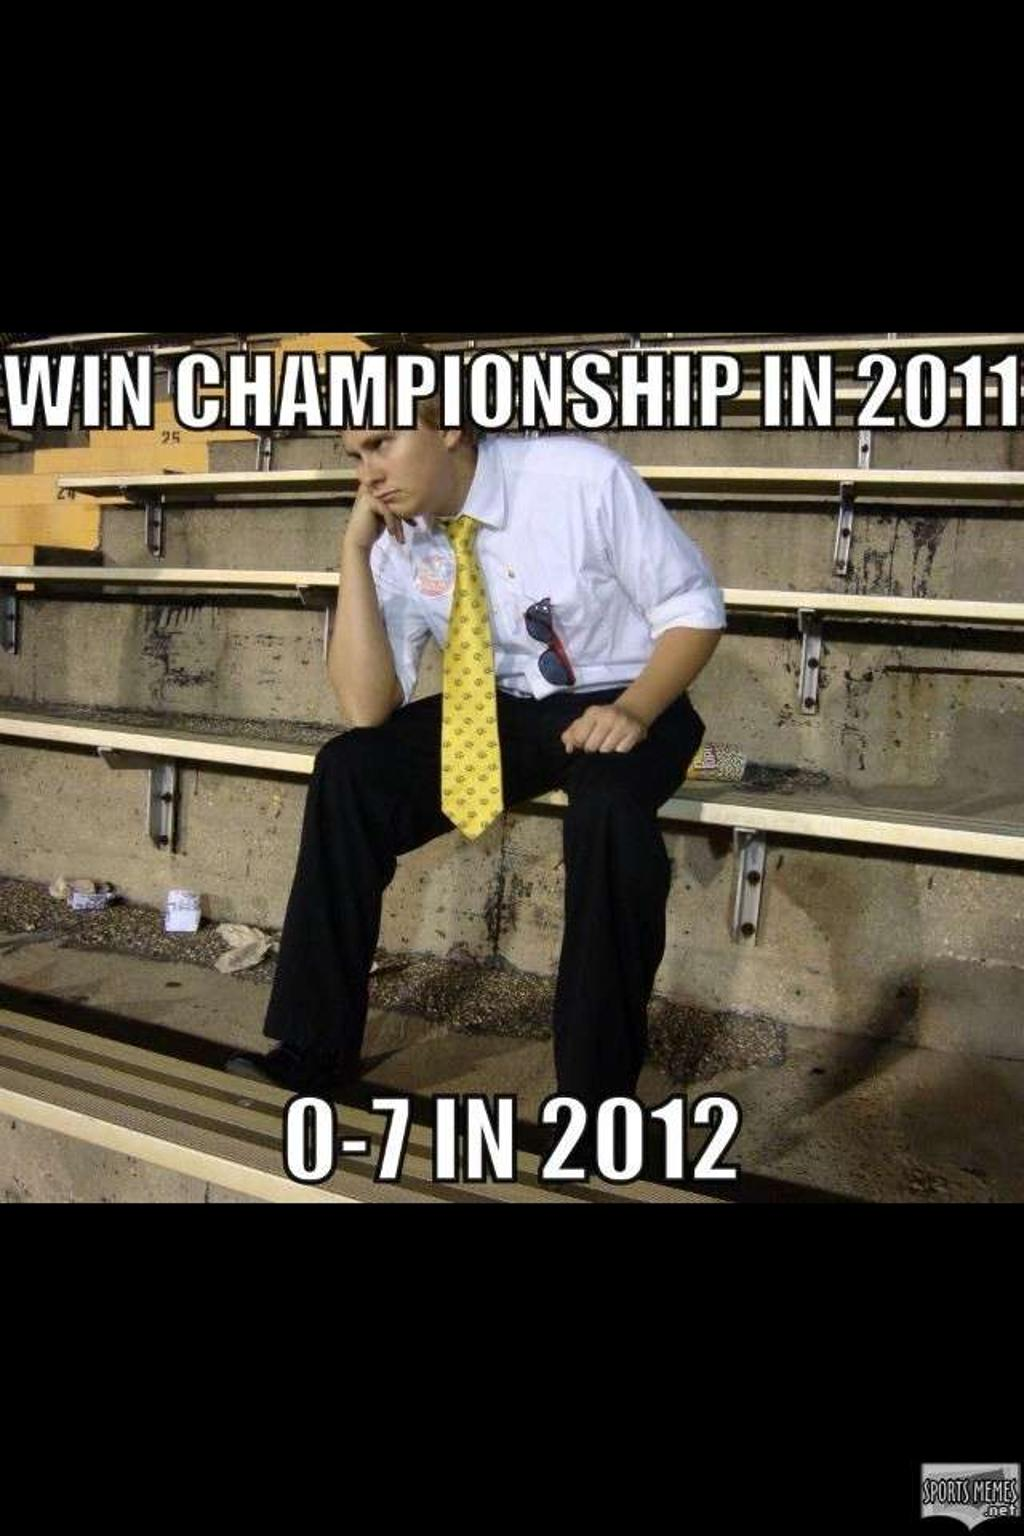face: (333, 378, 438, 525)
